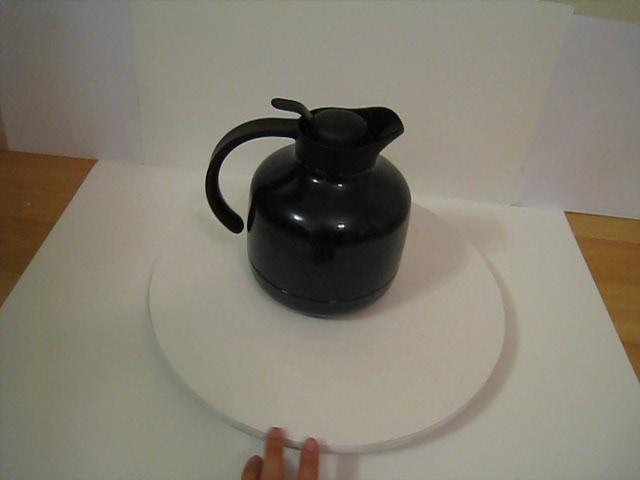pitcher: (188, 82, 437, 342)
